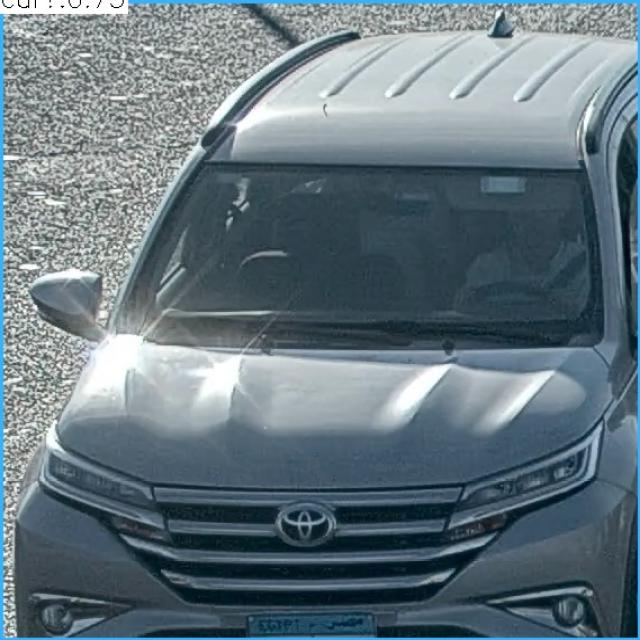windshield: (126, 161, 599, 346)
